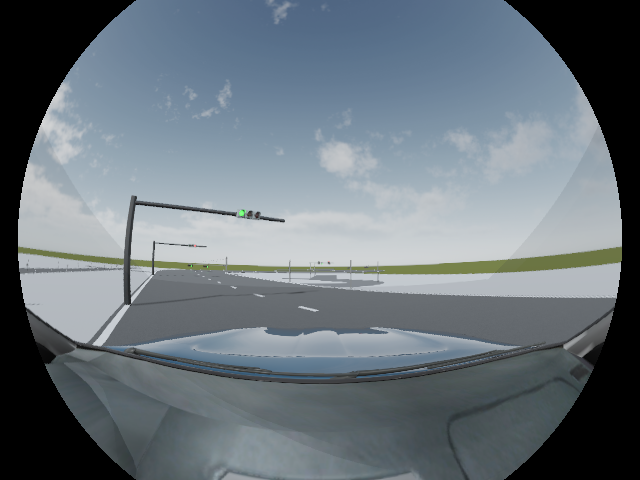Green Light: (236, 207, 263, 222)
